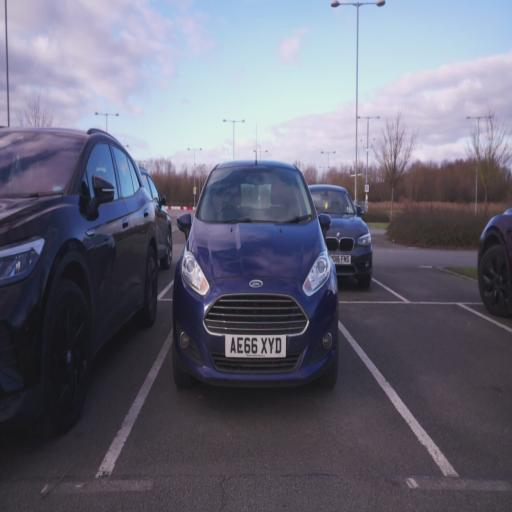numberplates: (225, 335, 286, 357), (330, 254, 351, 265)
